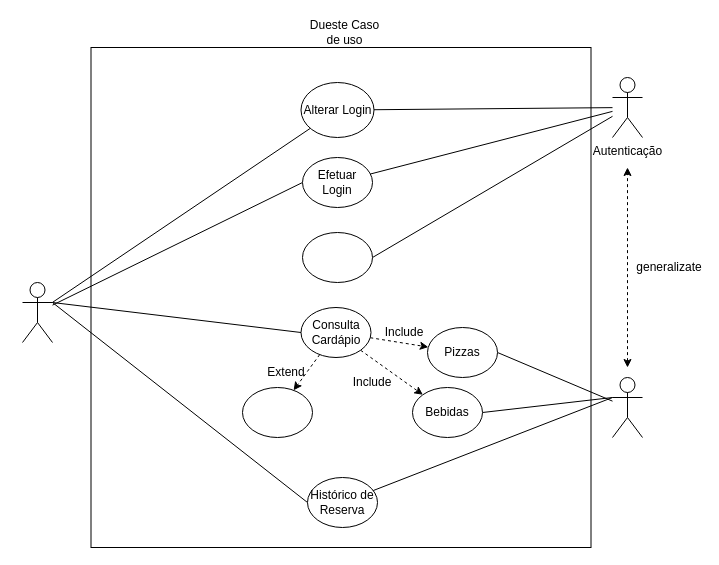
This 719x565 diagram has some shape labels left out. Here are the shapes that lost their labels. From the top down, the centre of each, then its label:
point (337, 257): Confirmar Login
point (37, 312): Usuário
point (277, 412): Barra de Pesquisa
point (627, 407): Servidor
